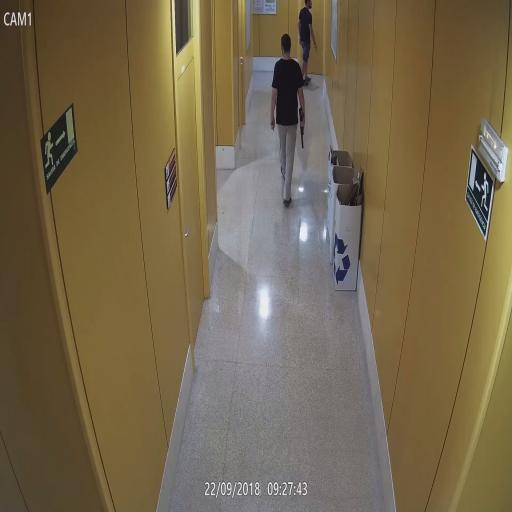Handgun: (312, 38, 320, 54)
